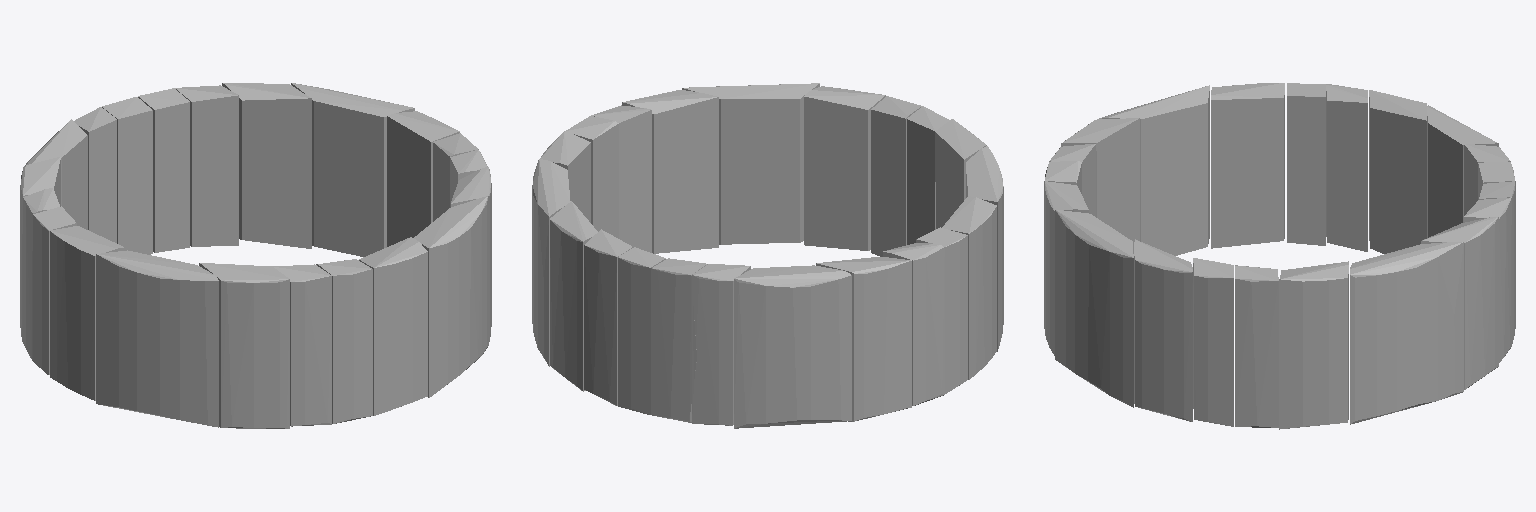
The robot description file, URDF, robot "root":
<robot name="root">
  <link name="link_Big Ring_convex_piece_0">
    <inertial>
      <origin xyz="0 0 0" rpy="0 0 0"/>
      <mass value="2.71E-03"/>
      <inertia ixx="7.08E-06" ixy="-2.04E-06" ixz="1.12E-09" iyy="9.92E-07" iyz="4.12E-09" izz="7.38E-06"/>
    </inertial>
    <visual>
      <origin xyz="0 0 0" rpy="0 0 0"/>
      <geometry>
        <mesh filename="Big Ring_convex_piece_0.obj" scale="1.0000E+00 1.0000E+00 1.0000E+00"/>
      </geometry>
      <material name="">
        <color rgba="7.50E-01 7.50E-01 7.50E-01 1"/>
      </material>
    </visual>
    <collision>
      <origin xyz="0 0 0" rpy="0 0 0"/>
      <geometry>
        <mesh filename="Big Ring_convex_piece_0.obj" scale="1.0000E+00 1.0000E+00 1.0000E+00"/>
      </geometry>
    </collision>
  </link>
  <link name="link_Big Ring_convex_piece_1">
    <inertial>
      <origin xyz="0 0 0" rpy="0 0 0"/>
      <mass value="2.19E-03"/>
      <inertia ixx="6.21E-06" ixy="-5.38E-07" ixz="4.10E-11" iyy="3.37E-07" iyz="5.12E-10" izz="6.01E-06"/>
    </inertial>
    <visual>
      <origin xyz="0 0 0" rpy="0 0 0"/>
      <geometry>
        <mesh filename="Big Ring_convex_piece_1.obj" scale="1.0000E+00 1.0000E+00 1.0000E+00"/>
      </geometry>
      <material name="">
        <color rgba="7.50E-01 7.50E-01 7.50E-01 1"/>
      </material>
    </visual>
    <collision>
      <origin xyz="0 0 0" rpy="0 0 0"/>
      <geometry>
        <mesh filename="Big Ring_convex_piece_1.obj" scale="1.0000E+00 1.0000E+00 1.0000E+00"/>
      </geometry>
    </collision>
  </link>
  <joint name="link_Big Ring_convex_piece_1_joint" type="fixed">
    <origin xyz="0 0 0" rpy="0 0 0"/>
    <parent link="link_Big Ring_convex_piece_0"/>
    <child link="link_Big Ring_convex_piece_1"/>
  </joint>
  <link name="link_Big Ring_convex_piece_2">
    <inertial>
      <origin xyz="0 0 0" rpy="0 0 0"/>
      <mass value="2.45E-03"/>
      <inertia ixx="4.08E-07" ixy="7.10E-07" ixz="1.17E-09" iyy="6.91E-06" iyz="-5.93E-11" izz="6.70E-06"/>
    </inertial>
    <visual>
      <origin xyz="0 0 0" rpy="0 0 0"/>
      <geometry>
        <mesh filename="Big Ring_convex_piece_2.obj" scale="1.0000E+00 1.0000E+00 1.0000E+00"/>
      </geometry>
      <material name="">
        <color rgba="7.50E-01 7.50E-01 7.50E-01 1"/>
      </material>
    </visual>
    <collision>
      <origin xyz="0 0 0" rpy="0 0 0"/>
      <geometry>
        <mesh filename="Big Ring_convex_piece_2.obj" scale="1.0000E+00 1.0000E+00 1.0000E+00"/>
      </geometry>
    </collision>
  </link>
  <joint name="link_Big Ring_convex_piece_2_joint" type="fixed">
    <origin xyz="0 0 0" rpy="0 0 0"/>
    <parent link="link_Big Ring_convex_piece_1"/>
    <child link="link_Big Ring_convex_piece_2"/>
  </joint>
  <link name="link_Big Ring_convex_piece_3">
    <inertial>
      <origin xyz="0 0 0" rpy="0 0 0"/>
      <mass value="2.39E-03"/>
      <inertia ixx="9.21E-07" ixy="1.87E-06" ixz="-2.00E-09" iyy="6.22E-06" iyz="8.15E-10" izz="6.53E-06"/>
    </inertial>
    <visual>
      <origin xyz="0 0 0" rpy="0 0 0"/>
      <geometry>
        <mesh filename="Big Ring_convex_piece_3.obj" scale="1.0000E+00 1.0000E+00 1.0000E+00"/>
      </geometry>
      <material name="">
        <color rgba="7.50E-01 7.50E-01 7.50E-01 1"/>
      </material>
    </visual>
    <collision>
      <origin xyz="0 0 0" rpy="0 0 0"/>
      <geometry>
        <mesh filename="Big Ring_convex_piece_3.obj" scale="1.0000E+00 1.0000E+00 1.0000E+00"/>
      </geometry>
    </collision>
  </link>
  <joint name="link_Big Ring_convex_piece_3_joint" type="fixed">
    <origin xyz="0 0 0" rpy="0 0 0"/>
    <parent link="link_Big Ring_convex_piece_2"/>
    <child link="link_Big Ring_convex_piece_3"/>
  </joint>
  <link name="link_Big Ring_convex_piece_4">
    <inertial>
      <origin xyz="0 0 0" rpy="0 0 0"/>
      <mass value="2.54E-03"/>
      <inertia ixx="7.15E-06" ixy="7.62E-07" ixz="-1.02E-09" iyy="4.21E-07" iyz="5.85E-09" izz="6.95E-06"/>
    </inertial>
    <visual>
      <origin xyz="0 0 0" rpy="0 0 0"/>
      <geometry>
        <mesh filename="Big Ring_convex_piece_4.obj" scale="1.0000E+00 1.0000E+00 1.0000E+00"/>
      </geometry>
      <material name="">
        <color rgba="7.50E-01 7.50E-01 7.50E-01 1"/>
      </material>
    </visual>
    <collision>
      <origin xyz="0 0 0" rpy="0 0 0"/>
      <geometry>
        <mesh filename="Big Ring_convex_piece_4.obj" scale="1.0000E+00 1.0000E+00 1.0000E+00"/>
      </geometry>
    </collision>
  </link>
  <joint name="link_Big Ring_convex_piece_4_joint" type="fixed">
    <origin xyz="0 0 0" rpy="0 0 0"/>
    <parent link="link_Big Ring_convex_piece_3"/>
    <child link="link_Big Ring_convex_piece_4"/>
  </joint>
  <link name="link_Big Ring_convex_piece_5">
    <inertial>
      <origin xyz="0 0 0" rpy="0 0 0"/>
      <mass value="2.39E-03"/>
      <inertia ixx="6.22E-06" ixy="1.87E-06" ixz="1.93E-10" iyy="9.19E-07" iyz="-7.93E-10" izz="6.53E-06"/>
    </inertial>
    <visual>
      <origin xyz="0 0 0" rpy="0 0 0"/>
      <geometry>
        <mesh filename="Big Ring_convex_piece_5.obj" scale="1.0000E+00 1.0000E+00 1.0000E+00"/>
      </geometry>
      <material name="">
        <color rgba="7.50E-01 7.50E-01 7.50E-01 1"/>
      </material>
    </visual>
    <collision>
      <origin xyz="0 0 0" rpy="0 0 0"/>
      <geometry>
        <mesh filename="Big Ring_convex_piece_5.obj" scale="1.0000E+00 1.0000E+00 1.0000E+00"/>
      </geometry>
    </collision>
  </link>
  <joint name="link_Big Ring_convex_piece_5_joint" type="fixed">
    <origin xyz="0 0 0" rpy="0 0 0"/>
    <parent link="link_Big Ring_convex_piece_4"/>
    <child link="link_Big Ring_convex_piece_5"/>
  </joint>
  <link name="link_Big Ring_convex_piece_6">
    <inertial>
      <origin xyz="0 0 0" rpy="0 0 0"/>
      <mass value="2.44E-03"/>
      <inertia ixx="9.64E-07" ixy="1.94E-06" ixz="5.55E-09" iyy="6.33E-06" iyz="-1.94E-09" izz="6.68E-06"/>
    </inertial>
    <visual>
      <origin xyz="0 0 0" rpy="0 0 0"/>
      <geometry>
        <mesh filename="Big Ring_convex_piece_6.obj" scale="1.0000E+00 1.0000E+00 1.0000E+00"/>
      </geometry>
      <material name="">
        <color rgba="7.50E-01 7.50E-01 7.50E-01 1"/>
      </material>
    </visual>
    <collision>
      <origin xyz="0 0 0" rpy="0 0 0"/>
      <geometry>
        <mesh filename="Big Ring_convex_piece_6.obj" scale="1.0000E+00 1.0000E+00 1.0000E+00"/>
      </geometry>
    </collision>
  </link>
  <joint name="link_Big Ring_convex_piece_6_joint" type="fixed">
    <origin xyz="0 0 0" rpy="0 0 0"/>
    <parent link="link_Big Ring_convex_piece_5"/>
    <child link="link_Big Ring_convex_piece_6"/>
  </joint>
  <link name="link_Big Ring_convex_piece_7">
    <inertial>
      <origin xyz="0 0 0" rpy="0 0 0"/>
      <mass value="2.18E-03"/>
      <inertia ixx="3.76E-07" ixy="7.13E-07" ixz="-3.60E-09" iyy="6.13E-06" iyz="5.64E-10" izz="5.96E-06"/>
    </inertial>
    <visual>
      <origin xyz="0 0 0" rpy="0 0 0"/>
      <geometry>
        <mesh filename="Big Ring_convex_piece_7.obj" scale="1.0000E+00 1.0000E+00 1.0000E+00"/>
      </geometry>
      <material name="">
        <color rgba="7.50E-01 7.50E-01 7.50E-01 1"/>
      </material>
    </visual>
    <collision>
      <origin xyz="0 0 0" rpy="0 0 0"/>
      <geometry>
        <mesh filename="Big Ring_convex_piece_7.obj" scale="1.0000E+00 1.0000E+00 1.0000E+00"/>
      </geometry>
    </collision>
  </link>
  <joint name="link_Big Ring_convex_piece_7_joint" type="fixed">
    <origin xyz="0 0 0" rpy="0 0 0"/>
    <parent link="link_Big Ring_convex_piece_6"/>
    <child link="link_Big Ring_convex_piece_7"/>
  </joint>
  <link name="link_Big Ring_convex_piece_8">
    <inertial>
      <origin xyz="0 0 0" rpy="0 0 0"/>
      <mass value="2.45E-03"/>
      <inertia ixx="6.92E-06" ixy="-7.10E-07" ixz="-8.17E-11" iyy="4.08E-07" iyz="-7.02E-10" izz="6.71E-06"/>
    </inertial>
    <visual>
      <origin xyz="0 0 0" rpy="0 0 0"/>
      <geometry>
        <mesh filename="Big Ring_convex_piece_8.obj" scale="1.0000E+00 1.0000E+00 1.0000E+00"/>
      </geometry>
      <material name="">
        <color rgba="7.50E-01 7.50E-01 7.50E-01 1"/>
      </material>
    </visual>
    <collision>
      <origin xyz="0 0 0" rpy="0 0 0"/>
      <geometry>
        <mesh filename="Big Ring_convex_piece_8.obj" scale="1.0000E+00 1.0000E+00 1.0000E+00"/>
      </geometry>
    </collision>
  </link>
  <joint name="link_Big Ring_convex_piece_8_joint" type="fixed">
    <origin xyz="0 0 0" rpy="0 0 0"/>
    <parent link="link_Big Ring_convex_piece_7"/>
    <child link="link_Big Ring_convex_piece_8"/>
  </joint>
  <link name="link_Big Ring_convex_piece_9">
    <inertial>
      <origin xyz="0 0 0" rpy="0 0 0"/>
      <mass value="2.39E-03"/>
      <inertia ixx="6.22E-06" ixy="-1.87E-06" ixz="-3.59E-10" iyy="9.19E-07" iyz="-1.46E-09" izz="6.53E-06"/>
    </inertial>
    <visual>
      <origin xyz="0 0 0" rpy="0 0 0"/>
      <geometry>
        <mesh filename="Big Ring_convex_piece_9.obj" scale="1.0000E+00 1.0000E+00 1.0000E+00"/>
      </geometry>
      <material name="">
        <color rgba="7.50E-01 7.50E-01 7.50E-01 1"/>
      </material>
    </visual>
    <collision>
      <origin xyz="0 0 0" rpy="0 0 0"/>
      <geometry>
        <mesh filename="Big Ring_convex_piece_9.obj" scale="1.0000E+00 1.0000E+00 1.0000E+00"/>
      </geometry>
    </collision>
  </link>
  <joint name="link_Big Ring_convex_piece_9_joint" type="fixed">
    <origin xyz="0 0 0" rpy="0 0 0"/>
    <parent link="link_Big Ring_convex_piece_8"/>
    <child link="link_Big Ring_convex_piece_9"/>
  </joint>
  <link name="link_Big Ring_convex_piece_10">
    <inertial>
      <origin xyz="0 0 0" rpy="0 0 0"/>
      <mass value="6.50E-03"/>
      <inertia ixx="6.40E-06" ixy="-7.85E-06" ixz="3.24E-09" iyy="1.31E-05" iyz="3.30E-09" izz="1.79E-05"/>
    </inertial>
    <visual>
      <origin xyz="0 0 0" rpy="0 0 0"/>
      <geometry>
        <mesh filename="Big Ring_convex_piece_10.obj" scale="1.0000E+00 1.0000E+00 1.0000E+00"/>
      </geometry>
      <material name="">
        <color rgba="7.50E-01 7.50E-01 7.50E-01 1"/>
      </material>
    </visual>
    <collision>
      <origin xyz="0 0 0" rpy="0 0 0"/>
      <geometry>
        <mesh filename="Big Ring_convex_piece_10.obj" scale="1.0000E+00 1.0000E+00 1.0000E+00"/>
      </geometry>
    </collision>
  </link>
  <joint name="link_Big Ring_convex_piece_10_joint" type="fixed">
    <origin xyz="0 0 0" rpy="0 0 0"/>
    <parent link="link_Big Ring_convex_piece_9"/>
    <child link="link_Big Ring_convex_piece_10"/>
  </joint>
  <link name="link_Big Ring_convex_piece_11">
    <inertial>
      <origin xyz="0 0 0" rpy="0 0 0"/>
      <mass value="4.03E-03"/>
      <inertia ixx="8.79E-07" ixy="-1.71E-06" ixz="2.55E-10" iyy="1.11E-05" iyz="4.88E-11" izz="1.09E-05"/>
    </inertial>
    <visual>
      <origin xyz="0 0 0" rpy="0 0 0"/>
      <geometry>
        <mesh filename="Big Ring_convex_piece_11.obj" scale="1.0000E+00 1.0000E+00 1.0000E+00"/>
      </geometry>
      <material name="">
        <color rgba="7.50E-01 7.50E-01 7.50E-01 1"/>
      </material>
    </visual>
    <collision>
      <origin xyz="0 0 0" rpy="0 0 0"/>
      <geometry>
        <mesh filename="Big Ring_convex_piece_11.obj" scale="1.0000E+00 1.0000E+00 1.0000E+00"/>
      </geometry>
    </collision>
  </link>
  <joint name="link_Big Ring_convex_piece_11_joint" type="fixed">
    <origin xyz="0 0 0" rpy="0 0 0"/>
    <parent link="link_Big Ring_convex_piece_10"/>
    <child link="link_Big Ring_convex_piece_11"/>
  </joint>
  <link name="link_Big Ring_convex_piece_12">
    <inertial>
      <origin xyz="0 0 0" rpy="0 0 0"/>
      <mass value="4.07E-03"/>
      <inertia ixx="8.26E-06" ixy="-4.92E-06" ixz="2.11E-09" iyy="3.79E-06" iyz="3.19E-09" izz="1.10E-05"/>
    </inertial>
    <visual>
      <origin xyz="0 0 0" rpy="0 0 0"/>
      <geometry>
        <mesh filename="Big Ring_convex_piece_12.obj" scale="1.0000E+00 1.0000E+00 1.0000E+00"/>
      </geometry>
      <material name="">
        <color rgba="7.50E-01 7.50E-01 7.50E-01 1"/>
      </material>
    </visual>
    <collision>
      <origin xyz="0 0 0" rpy="0 0 0"/>
      <geometry>
        <mesh filename="Big Ring_convex_piece_12.obj" scale="1.0000E+00 1.0000E+00 1.0000E+00"/>
      </geometry>
    </collision>
  </link>
  <joint name="link_Big Ring_convex_piece_12_joint" type="fixed">
    <origin xyz="0 0 0" rpy="0 0 0"/>
    <parent link="link_Big Ring_convex_piece_11"/>
    <child link="link_Big Ring_convex_piece_12"/>
  </joint>
  <link name="link_Big Ring_convex_piece_13">
    <inertial>
      <origin xyz="0 0 0" rpy="0 0 0"/>
      <mass value="4.10E-03"/>
      <inertia ixx="3.84E-06" ixy="4.97E-06" ixz="-4.23E-10" iyy="8.33E-06" iyz="1.72E-10" izz="1.11E-05"/>
    </inertial>
    <visual>
      <origin xyz="0 0 0" rpy="0 0 0"/>
      <geometry>
        <mesh filename="Big Ring_convex_piece_13.obj" scale="1.0000E+00 1.0000E+00 1.0000E+00"/>
      </geometry>
      <material name="">
        <color rgba="7.50E-01 7.50E-01 7.50E-01 1"/>
      </material>
    </visual>
    <collision>
      <origin xyz="0 0 0" rpy="0 0 0"/>
      <geometry>
        <mesh filename="Big Ring_convex_piece_13.obj" scale="1.0000E+00 1.0000E+00 1.0000E+00"/>
      </geometry>
    </collision>
  </link>
  <joint name="link_Big Ring_convex_piece_13_joint" type="fixed">
    <origin xyz="0 0 0" rpy="0 0 0"/>
    <parent link="link_Big Ring_convex_piece_12"/>
    <child link="link_Big Ring_convex_piece_13"/>
  </joint>
  <link name="link_Big Ring_convex_piece_14">
    <inertial>
      <origin xyz="0 0 0" rpy="0 0 0"/>
      <mass value="6.41E-03"/>
      <inertia ixx="1.29E-05" ixy="7.76E-06" ixz="1.30E-09" iyy="6.32E-06" iyz="-1.74E-09" izz="1.76E-05"/>
    </inertial>
    <visual>
      <origin xyz="0 0 0" rpy="0 0 0"/>
      <geometry>
        <mesh filename="Big Ring_convex_piece_14.obj" scale="1.0000E+00 1.0000E+00 1.0000E+00"/>
      </geometry>
      <material name="">
        <color rgba="7.50E-01 7.50E-01 7.50E-01 1"/>
      </material>
    </visual>
    <collision>
      <origin xyz="0 0 0" rpy="0 0 0"/>
      <geometry>
        <mesh filename="Big Ring_convex_piece_14.obj" scale="1.0000E+00 1.0000E+00 1.0000E+00"/>
      </geometry>
    </collision>
  </link>
  <joint name="link_Big Ring_convex_piece_14_joint" type="fixed">
    <origin xyz="0 0 0" rpy="0 0 0"/>
    <parent link="link_Big Ring_convex_piece_13"/>
    <child link="link_Big Ring_convex_piece_14"/>
  </joint>
  <link name="link_Big Ring_convex_piece_15">
    <inertial>
      <origin xyz="0 0 0" rpy="0 0 0"/>
      <mass value="4.02E-03"/>
      <inertia ixx="1.11E-05" ixy="1.72E-06" ixz="3.86E-11" iyy="8.75E-07" iyz="-6.05E-10" izz="1.09E-05"/>
    </inertial>
    <visual>
      <origin xyz="0 0 0" rpy="0 0 0"/>
      <geometry>
        <mesh filename="Big Ring_convex_piece_15.obj" scale="1.0000E+00 1.0000E+00 1.0000E+00"/>
      </geometry>
      <material name="">
        <color rgba="7.50E-01 7.50E-01 7.50E-01 1"/>
      </material>
    </visual>
    <collision>
      <origin xyz="0 0 0" rpy="0 0 0"/>
      <geometry>
        <mesh filename="Big Ring_convex_piece_15.obj" scale="1.0000E+00 1.0000E+00 1.0000E+00"/>
      </geometry>
    </collision>
  </link>
  <joint name="link_Big Ring_convex_piece_15_joint" type="fixed">
    <origin xyz="0 0 0" rpy="0 0 0"/>
    <parent link="link_Big Ring_convex_piece_14"/>
    <child link="link_Big Ring_convex_piece_15"/>
  </joint>
  <link name="link_Big Ring_convex_piece_16">
    <inertial>
      <origin xyz="0 0 0" rpy="0 0 0"/>
      <mass value="5.18E-03"/>
      <inertia ixx="1.00E-05" ixy="6.58E-06" ixz="1.31E-09" iyy="5.60E-06" iyz="-1.40E-09" izz="1.43E-05"/>
    </inertial>
    <visual>
      <origin xyz="0 0 0" rpy="0 0 0"/>
      <geometry>
        <mesh filename="Big Ring_convex_piece_16.obj" scale="1.0000E+00 1.0000E+00 1.0000E+00"/>
      </geometry>
      <material name="">
        <color rgba="7.50E-01 7.50E-01 7.50E-01 1"/>
      </material>
    </visual>
    <collision>
      <origin xyz="0 0 0" rpy="0 0 0"/>
      <geometry>
        <mesh filename="Big Ring_convex_piece_16.obj" scale="1.0000E+00 1.0000E+00 1.0000E+00"/>
      </geometry>
    </collision>
  </link>
  <joint name="link_Big Ring_convex_piece_16_joint" type="fixed">
    <origin xyz="0 0 0" rpy="0 0 0"/>
    <parent link="link_Big Ring_convex_piece_15"/>
    <child link="link_Big Ring_convex_piece_16"/>
  </joint>
  <link name="link_Big Ring_convex_piece_17">
    <inertial>
      <origin xyz="0 0 0" rpy="0 0 0"/>
      <mass value="4.02E-03"/>
      <inertia ixx="3.84E-06" ixy="4.91E-06" ixz="-3.03E-09" iyy="8.08E-06" iyz="1.58E-09" izz="1.09E-05"/>
    </inertial>
    <visual>
      <origin xyz="0 0 0" rpy="0 0 0"/>
      <geometry>
        <mesh filename="Big Ring_convex_piece_17.obj" scale="1.0000E+00 1.0000E+00 1.0000E+00"/>
      </geometry>
      <material name="">
        <color rgba="7.50E-01 7.50E-01 7.50E-01 1"/>
      </material>
    </visual>
    <collision>
      <origin xyz="0 0 0" rpy="0 0 0"/>
      <geometry>
        <mesh filename="Big Ring_convex_piece_17.obj" scale="1.0000E+00 1.0000E+00 1.0000E+00"/>
      </geometry>
    </collision>
  </link>
  <joint name="link_Big Ring_convex_piece_17_joint" type="fixed">
    <origin xyz="0 0 0" rpy="0 0 0"/>
    <parent link="link_Big Ring_convex_piece_16"/>
    <child link="link_Big Ring_convex_piece_17"/>
  </joint>
  <link name="link_Big Ring_convex_piece_18">
    <inertial>
      <origin xyz="0 0 0" rpy="0 0 0"/>
      <mass value="4.22E-03"/>
      <inertia ixx="8.55E-06" ixy="-5.10E-06" ixz="1.31E-08" iyy="3.95E-06" iyz="2.46E-08" izz="1.14E-05"/>
    </inertial>
    <visual>
      <origin xyz="0 0 0" rpy="0 0 0"/>
      <geometry>
        <mesh filename="Big Ring_convex_piece_18.obj" scale="1.0000E+00 1.0000E+00 1.0000E+00"/>
      </geometry>
      <material name="">
        <color rgba="7.50E-01 7.50E-01 7.50E-01 1"/>
      </material>
    </visual>
    <collision>
      <origin xyz="0 0 0" rpy="0 0 0"/>
      <geometry>
        <mesh filename="Big Ring_convex_piece_18.obj" scale="1.0000E+00 1.0000E+00 1.0000E+00"/>
      </geometry>
    </collision>
  </link>
  <joint name="link_Big Ring_convex_piece_18_joint" type="fixed">
    <origin xyz="0 0 0" rpy="0 0 0"/>
    <parent link="link_Big Ring_convex_piece_17"/>
    <child link="link_Big Ring_convex_piece_18"/>
  </joint>
  <link name="link_Big Ring_convex_piece_19">
    <inertial>
      <origin xyz="0 0 0" rpy="0 0 0"/>
      <mass value="4.36E-03"/>
      <inertia ixx="9.15E-07" ixy="-1.71E-06" ixz="-8.45E-11" iyy="1.20E-05" iyz="-5.02E-11" izz="1.18E-05"/>
    </inertial>
    <visual>
      <origin xyz="0 0 0" rpy="0 0 0"/>
      <geometry>
        <mesh filename="Big Ring_convex_piece_19.obj" scale="1.0000E+00 1.0000E+00 1.0000E+00"/>
      </geometry>
      <material name="">
        <color rgba="7.50E-01 7.50E-01 7.50E-01 1"/>
      </material>
    </visual>
    <collision>
      <origin xyz="0 0 0" rpy="0 0 0"/>
      <geometry>
        <mesh filename="Big Ring_convex_piece_19.obj" scale="1.0000E+00 1.0000E+00 1.0000E+00"/>
      </geometry>
    </collision>
  </link>
  <joint name="link_Big Ring_convex_piece_19_joint" type="fixed">
    <origin xyz="0 0 0" rpy="0 0 0"/>
    <parent link="link_Big Ring_convex_piece_18"/>
    <child link="link_Big Ring_convex_piece_19"/>
  </joint>
  <link name="link_Big Ring_convex_piece_20">
    <inertial>
      <origin xyz="0 0 0" rpy="0 0 0"/>
      <mass value="6.35E-03"/>
      <inertia ixx="6.22E-06" ixy="-7.68E-06" ixz="-2.90E-10" iyy="1.28E-05" iyz="-1.44E-10" izz="1.75E-05"/>
    </inertial>
    <visual>
      <origin xyz="0 0 0" rpy="0 0 0"/>
      <geometry>
        <mesh filename="Big Ring_convex_piece_20.obj" scale="1.0000E+00 1.0000E+00 1.0000E+00"/>
      </geometry>
      <material name="">
        <color rgba="7.50E-01 7.50E-01 7.50E-01 1"/>
      </material>
    </visual>
    <collision>
      <origin xyz="0 0 0" rpy="0 0 0"/>
      <geometry>
        <mesh filename="Big Ring_convex_piece_20.obj" scale="1.0000E+00 1.0000E+00 1.0000E+00"/>
      </geometry>
    </collision>
  </link>
  <joint name="link_Big Ring_convex_piece_20_joint" type="fixed">
    <origin xyz="0 0 0" rpy="0 0 0"/>
    <parent link="link_Big Ring_convex_piece_19"/>
    <child link="link_Big Ring_convex_piece_20"/>
  </joint>
</robot>

--- Render facts (derived) ---
Views: 3 orthographic renders of the robot side by side, from view 1: azimuth 30°, elevation 25°; view 2: azimuth 150°, elevation 25°; view 3: azimuth 270°, elevation 25°.
Robot: root — 21 links, 20 joints (20 fixed); root link link_Big Ring_convex_piece_0; default pose: every joint at zero.
Visible links, largest first — view 1: link_Big Ring_convex_piece_20, link_Big Ring_convex_piece_10, link_Big Ring_convex_piece_12, link_Big Ring_convex_piece_18, link_Big Ring_convex_piece_14, link_Big Ring_convex_piece_15, link_Big Ring_convex_piece_0, link_Big Ring_convex_piece_19, link_Big Ring_convex_piece_9, link_Big Ring_convex_piece_8, link_Big Ring_convex_piece_11, link_Big Ring_convex_piece_1 (+9 smaller); view 2: link_Big Ring_convex_piece_16, link_Big Ring_convex_piece_14, link_Big Ring_convex_piece_13, link_Big Ring_convex_piece_15, link_Big Ring_convex_piece_17, link_Big Ring_convex_piece_4, link_Big Ring_convex_piece_5, link_Big Ring_convex_piece_12, link_Big Ring_convex_piece_0, link_Big Ring_convex_piece_8, link_Big Ring_convex_piece_6, link_Big Ring_convex_piece_1 (+9 smaller); view 3: link_Big Ring_convex_piece_10, link_Big Ring_convex_piece_14, link_Big Ring_convex_piece_19, link_Big Ring_convex_piece_11, link_Big Ring_convex_piece_20, link_Big Ring_convex_piece_13, link_Big Ring_convex_piece_17, link_Big Ring_convex_piece_2, link_Big Ring_convex_piece_6, link_Big Ring_convex_piece_3, link_Big Ring_convex_piece_7, link_Big Ring_convex_piece_12 (+9 smaller).
Boxes of the visible links, x1,y1,x2,y2 form: link_Big Ring_convex_piece_20: [96, 250, 218, 427]; link_Big Ring_convex_piece_10: [291, 83, 414, 256]; link_Big Ring_convex_piece_12: [222, 83, 311, 248]; link_Big Ring_convex_piece_18: [199, 263, 289, 428]; link_Big Ring_convex_piece_14: [414, 196, 488, 397]; link_Big Ring_convex_piece_15: [359, 237, 427, 415]; link_Big Ring_convex_piece_0: [175, 85, 238, 246]; link_Big Ring_convex_piece_19: [50, 226, 124, 400]; link_Big Ring_convex_piece_9: [273, 264, 331, 426]; link_Big Ring_convex_piece_8: [316, 259, 372, 423]; link_Big Ring_convex_piece_11: [387, 111, 459, 246]; link_Big Ring_convex_piece_1: [138, 88, 189, 252]; link_Big Ring_convex_piece_16: [734, 265, 851, 428]; link_Big Ring_convex_piece_14: [682, 83, 819, 244]; link_Big Ring_convex_piece_13: [622, 90, 718, 253]; link_Big Ring_convex_piece_15: [804, 86, 885, 250]; link_Big Ring_convex_piece_17: [816, 257, 911, 421]; link_Big Ring_convex_piece_4: [651, 258, 707, 422]; link_Big Ring_convex_piece_5: [692, 264, 750, 425]; link_Big Ring_convex_piece_12: [550, 201, 597, 391]; link_Big Ring_convex_piece_0: [584, 229, 632, 405]; link_Big Ring_convex_piece_8: [871, 96, 921, 256]; link_Big Ring_convex_piece_6: [883, 243, 944, 405]; link_Big Ring_convex_piece_1: [618, 247, 665, 414]; link_Big Ring_convex_piece_10: [1350, 242, 1463, 424]; link_Big Ring_convex_piece_14: [1055, 210, 1133, 407]; link_Big Ring_convex_piece_19: [1211, 83, 1284, 248]; link_Big Ring_convex_piece_11: [1279, 261, 1348, 429]; link_Big Ring_convex_piece_20: [1099, 85, 1209, 255]; link_Big Ring_convex_piece_13: [1134, 239, 1192, 421]; link_Big Ring_convex_piece_17: [1369, 90, 1426, 253]; link_Big Ring_convex_piece_2: [1235, 265, 1278, 427]; link_Big Ring_convex_piece_6: [1326, 84, 1367, 251]; link_Big Ring_convex_piece_3: [1193, 258, 1233, 426]; link_Big Ring_convex_piece_7: [1287, 83, 1325, 245]; link_Big Ring_convex_piece_12: [1421, 217, 1498, 389].
Bounding box of the posed robot: 0.1124 × 0.1124 × 0.0397 m (x, y, z).
21 mesh visuals loaded from 21 distinct referenced files (21 OBJ).
